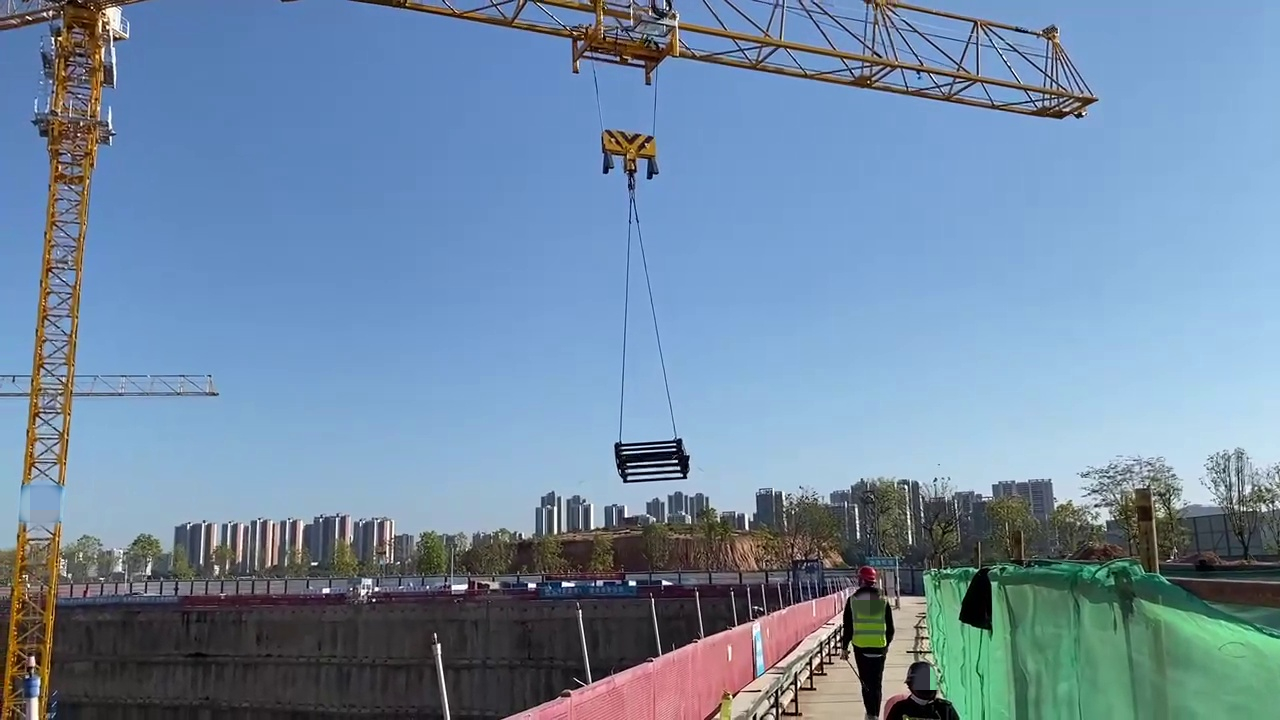fence: (486, 587, 837, 720)
helmet: (910, 662, 940, 683), (860, 566, 875, 581)
hook: (600, 127, 661, 172)
person: (843, 568, 887, 720), (894, 659, 956, 720)
vest: (850, 588, 886, 648)
